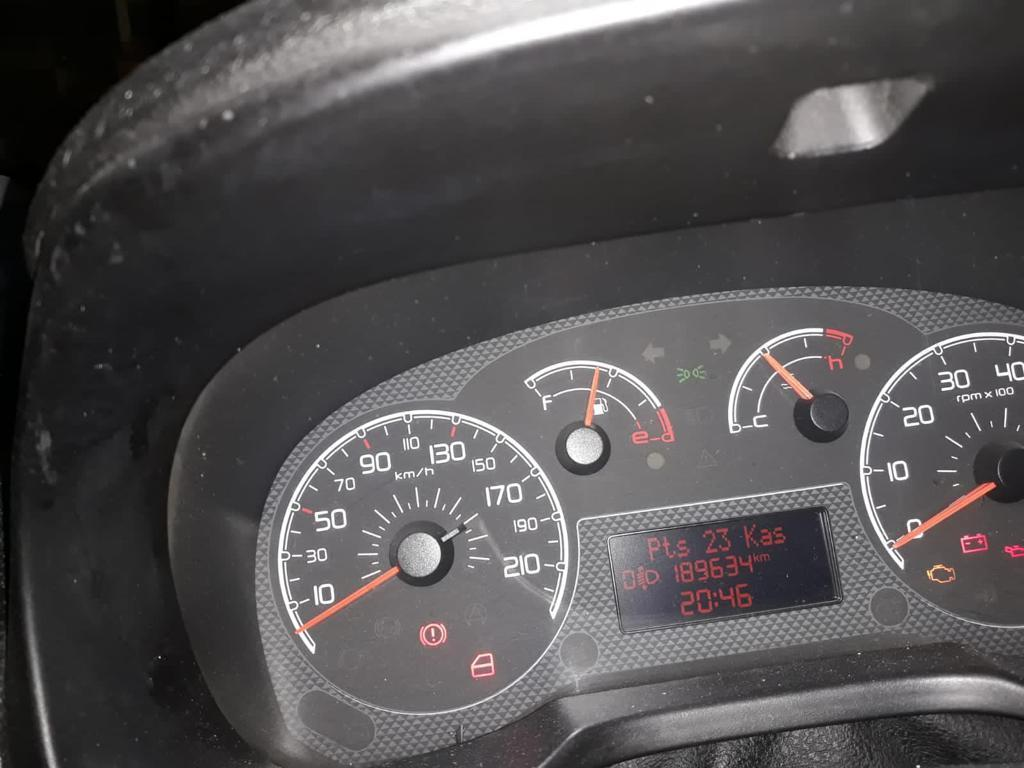0: (695, 588, 713, 613), (621, 569, 636, 591)
1: (672, 564, 679, 584)
2: (702, 529, 718, 554), (679, 590, 694, 616)
3: (715, 527, 731, 551), (724, 555, 738, 576)
4: (718, 586, 736, 608), (738, 554, 753, 572)
6: (735, 583, 752, 608), (708, 556, 724, 578)
8: (678, 561, 694, 582)
9: (694, 559, 709, 580)
X: (742, 523, 759, 549), (646, 537, 661, 561), (661, 535, 676, 558), (676, 539, 690, 557), (760, 528, 773, 546), (773, 526, 786, 544), (712, 591, 718, 608), (759, 553, 769, 561), (752, 552, 759, 563)
odometer: (605, 503, 843, 636)
